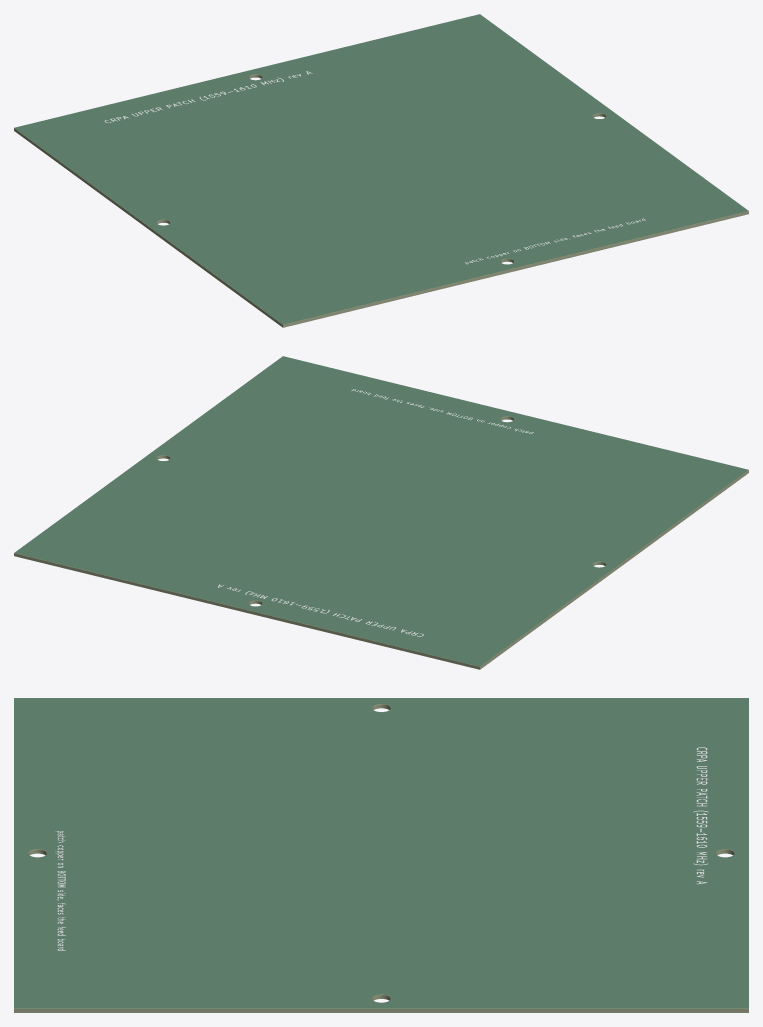
Rendered from patch_upper.glb.
3 views of the same model, one above another, from view 1: azimuth 30°, elevation 25°; view 2: azimuth 150°, elevation 25°; view 3: azimuth 270°, elevation 25° (orthographic). The views are drawn at different scales.
Parts seen in each view (by area): view 1: =>[0:1:1:6], =>[0:1:1:4], =>[0:1:1:3]; view 2: =>[0:1:1:6], =>[0:1:1:4], =>[0:1:1:3]; view 3: =>[0:1:1:6], =>[0:1:1:4], =>[0:1:1:3], =>[0:1:1:5].
Boxes of the visible parts, x1,y1,x2,y2 form: =>[0:1:1:6]: [14, 15, 748, 327]; =>[0:1:1:4]: [14, 14, 748, 324]; =>[0:1:1:3]: [104, 71, 645, 264]; =>[0:1:1:6]: [14, 357, 748, 669]; =>[0:1:1:4]: [14, 356, 748, 666]; =>[0:1:1:3]: [218, 389, 533, 636]; =>[0:1:1:6]: [14, 699, 748, 1012]; =>[0:1:1:4]: [14, 698, 748, 1008]; =>[0:1:1:3]: [55, 747, 708, 950]; =>[0:1:1:5]: [14, 708, 748, 1012].
Bounding box in the file's own units: 0.124 × 0.000835 × 0.124.
